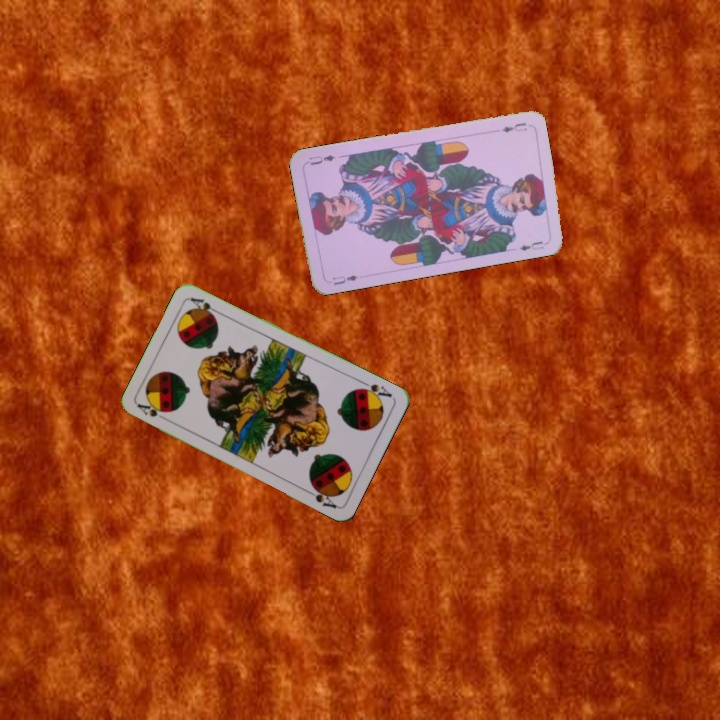EU: (328, 271, 361, 288), (498, 118, 529, 135)
SA: (354, 376, 395, 403), (134, 399, 172, 424)
